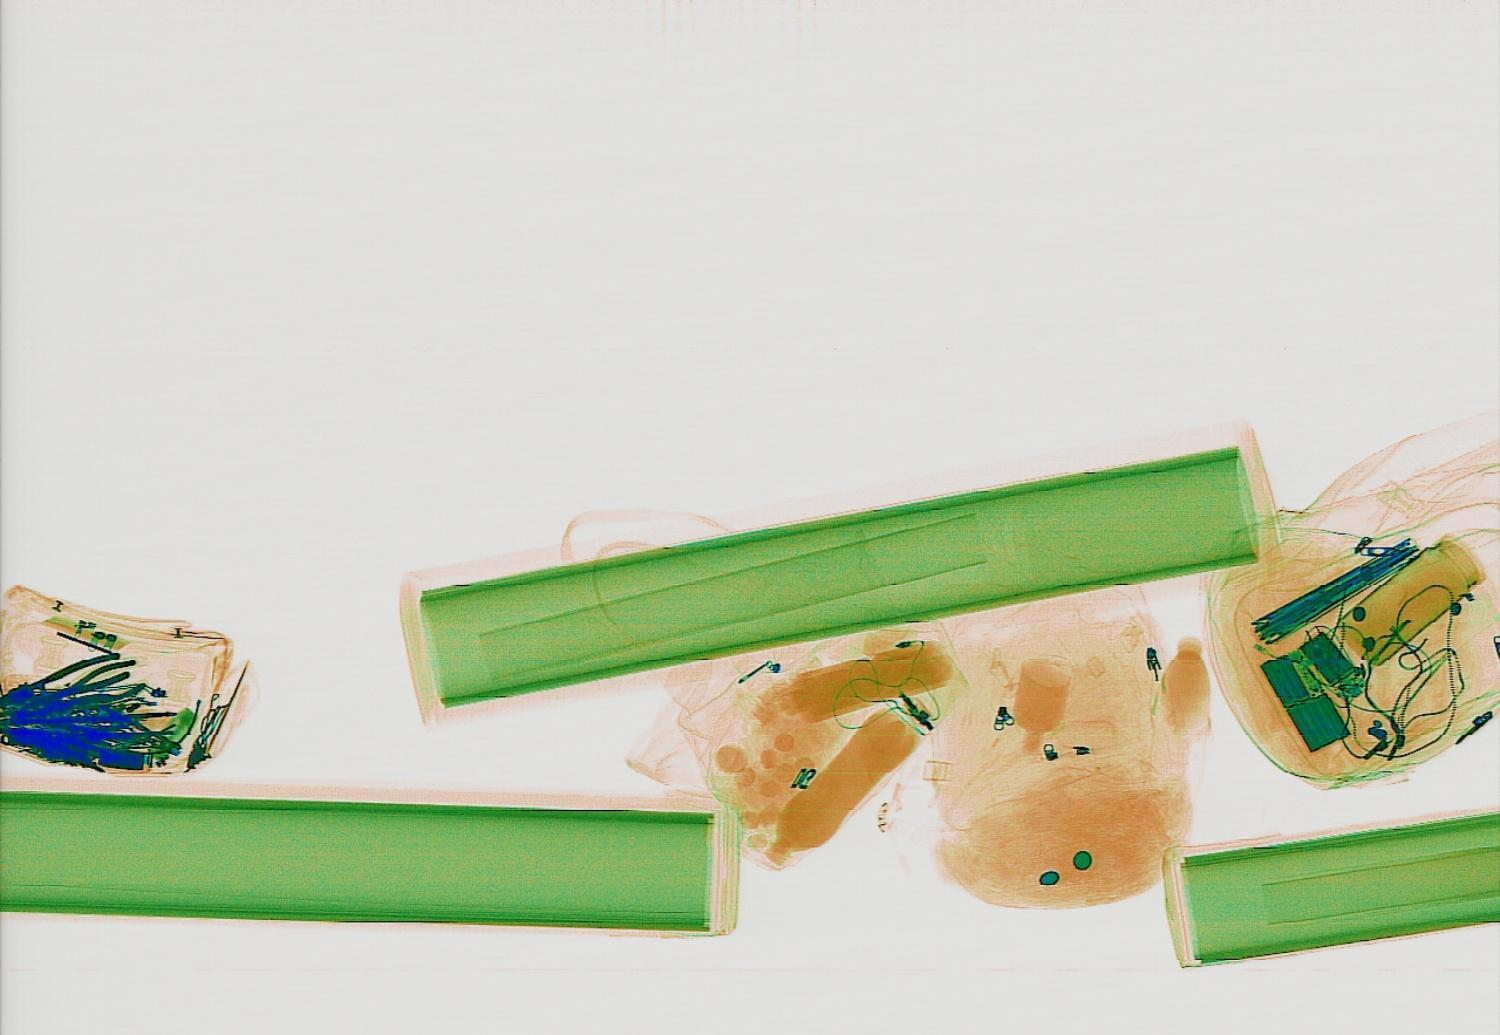Pliers: (12, 656, 140, 716)
